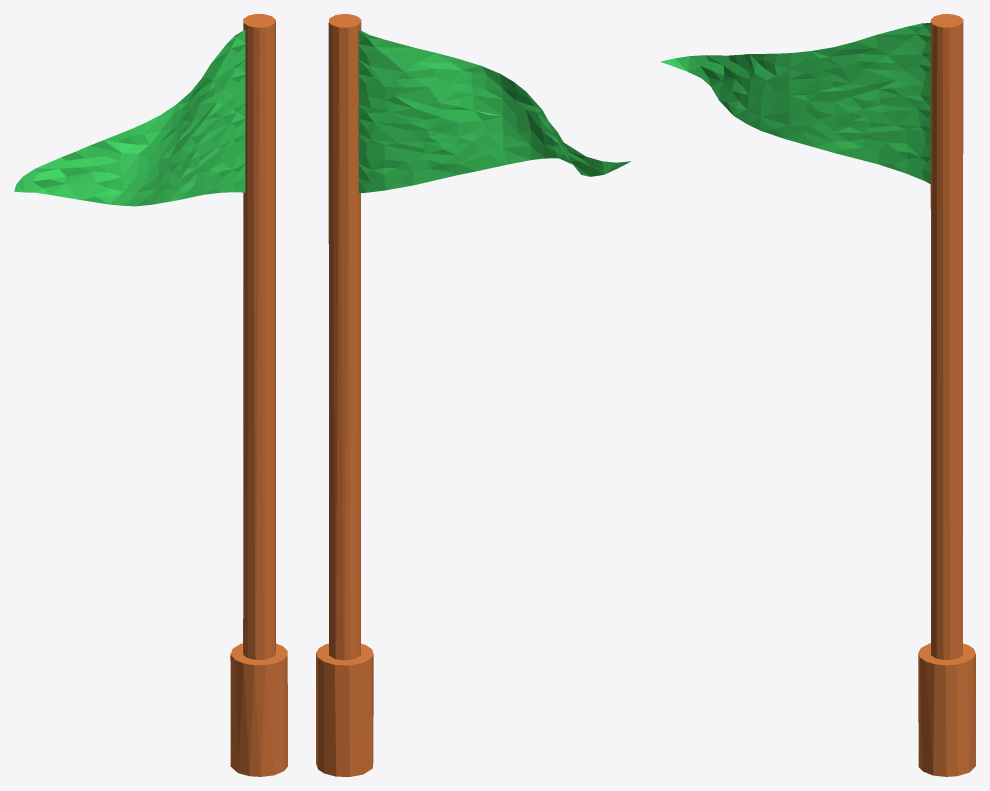
File: flag.fbx
3 views of the same model, side by side, from view 1: azimuth 30°, elevation 25°; view 2: azimuth 150°, elevation 25°; view 3: azimuth 330°, elevation 25° (orthographic).
Visible parts, largest first — view 1: Cylinder.003; view 2: Cylinder.003; view 3: Cylinder.003.
Part boxes in pixels (x1=…): Cylinder.003: x1=14, y1=14, x2=287, y2=776; Cylinder.003: x1=316, y1=14, x2=630, y2=776; Cylinder.003: x1=660, y1=14, x2=975, y2=776.
Size of the model in its own units: 81.89 by 200 by 22.81.
